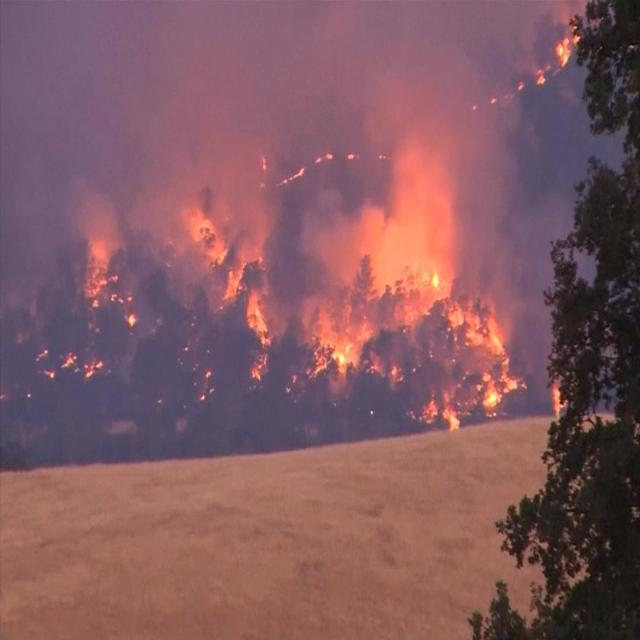Fire: (306, 265, 528, 434), (194, 218, 273, 404), (83, 266, 137, 326), (532, 23, 582, 86), (34, 346, 104, 382), (275, 150, 333, 187), (552, 382, 568, 422)
Smoke: (1, 1, 588, 453)
